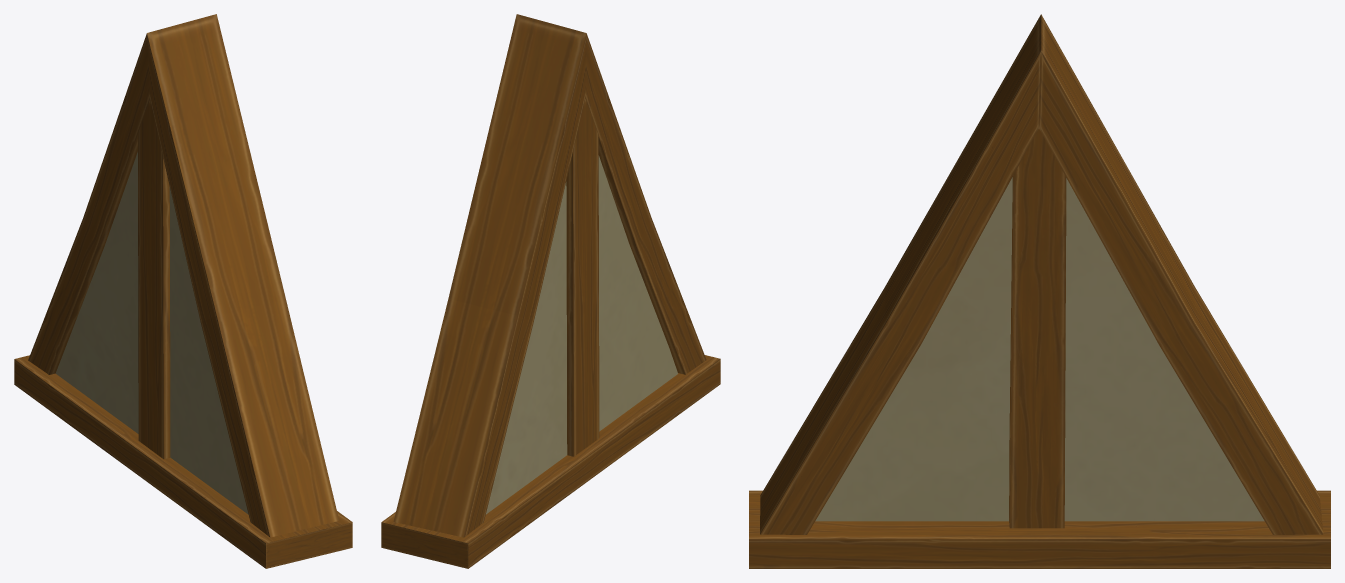
The model's file is SM_House_Roof_01_WallTop_Standard_01.fbx.
3 views of the same model, side by side, from view 1: azimuth 30°, elevation 25°; view 2: azimuth 150°, elevation 25°; view 3: azimuth 270°, elevation 25° (orthographic). The views are drawn at different scales.
Visible parts, largest first — view 1: SM_House_Roof_01_WallTop_Standard_01; view 2: SM_House_Roof_01_WallTop_Standard_01; view 3: SM_House_Roof_01_WallTop_Standard_01.
Boxes of the visible parts, box(x1,y1,x2,y2) form: SM_House_Roof_01_WallTop_Standard_01: box(14, 14, 352, 568); SM_House_Roof_01_WallTop_Standard_01: box(381, 14, 720, 568); SM_House_Roof_01_WallTop_Standard_01: box(749, 14, 1330, 568).
Bounding box in the file's own units: 0.4117 × 2.01 × 2.07.
